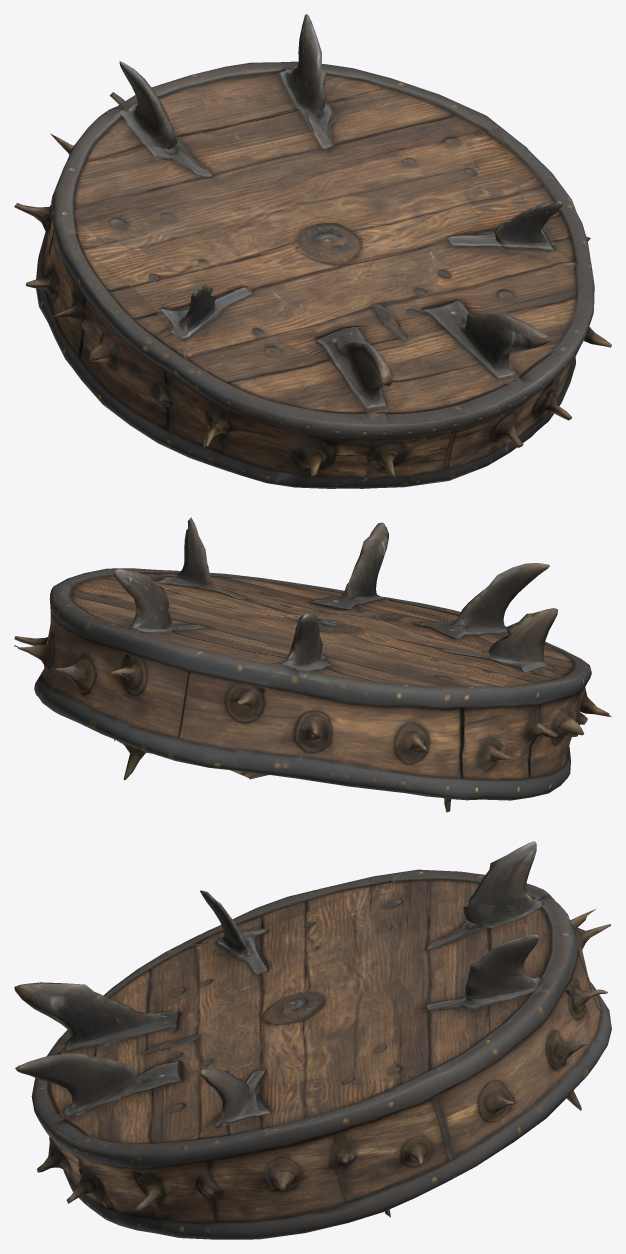
The model's file is Desert_Battle_Disk_1113194337_texture.fbx.
The picture shows the model from 3 angles, top to bottom: view 1: azimuth 30°, elevation 25°; view 2: azimuth 150°, elevation 25°; view 3: azimuth 270°, elevation 25°; orthographic projection. The views are drawn at different scales.
Visible parts, largest first — view 1: Mesh0; view 2: Mesh0; view 3: Mesh0.
Boxes of the visible parts, bbox=[...] form: Mesh0: bbox=[14, 14, 611, 488]; Mesh0: bbox=[14, 517, 611, 812]; Mesh0: bbox=[14, 841, 611, 1239].
Bounding box in the file's own units: 197 × 112 × 197.
1 material, 1 textured.
